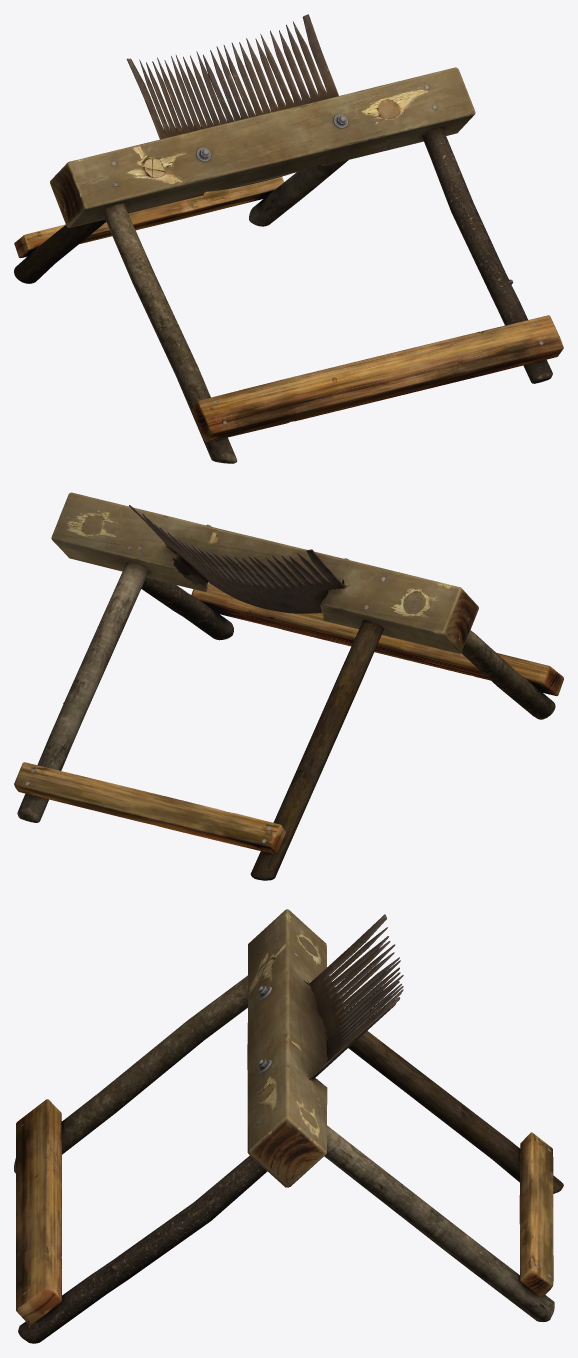
The model's file is thresher.glb.
3 renders of one model, top to bottom at view 1: azimuth 30°, elevation 25°; view 2: azimuth 150°, elevation 25°; view 3: azimuth 270°, elevation 25°, orthographic. The views are drawn at different scales.
Visible parts, largest first — view 1: ThreshingMachine_M_ThreshingMachine_0.013, ThreshingMachine_M_ThreshingMachine_0.012, ThreshingMachine_M_ThreshingMachine_0.010, ThreshingMachine_M_ThreshingMachine_0.018, ThreshingMachine_M_ThreshingMachine_0.003, ThreshingMachine_M_ThreshingMachine_0.011, ThreshingMachine_M_ThreshingMachine_0.008, ThreshingMachine_M_ThreshingMachine_0.019; view 2: ThreshingMachine_M_ThreshingMachine_0.013, ThreshingMachine_M_ThreshingMachine_0.011, ThreshingMachine_M_ThreshingMachine_0.010, ThreshingMachine_M_ThreshingMachine_0.012, ThreshingMachine_M_ThreshingMachine_0.019, ThreshingMachine_M_ThreshingMachine_0.008, ThreshingMachine_M_ThreshingMachine_0.018, ThreshingMachine_M_ThreshingMachine_0.003, ThreshingMachine_M_ThreshingMachine_0.014; view 3: ThreshingMachine_M_ThreshingMachine_0.013, ThreshingMachine_M_ThreshingMachine_0.012, ThreshingMachine_M_ThreshingMachine_0.008, ThreshingMachine_M_ThreshingMachine_0.003, ThreshingMachine_M_ThreshingMachine_0.010, ThreshingMachine_M_ThreshingMachine_0.018, ThreshingMachine_M_ThreshingMachine_0.019, ThreshingMachine_M_ThreshingMachine_0.011.
Part boxes in pixels (x1,y1,x2,y2): ThreshingMachine_M_ThreshingMachine_0.013: (50, 67, 475, 227); ThreshingMachine_M_ThreshingMachine_0.012: (192, 315, 563, 442); ThreshingMachine_M_ThreshingMachine_0.010: (126, 14, 338, 191); ThreshingMachine_M_ThreshingMachine_0.018: (102, 203, 236, 459); ThreshingMachine_M_ThreshingMachine_0.003: (422, 128, 552, 383); ThreshingMachine_M_ThreshingMachine_0.011: (14, 176, 283, 258); ThreshingMachine_M_ThreshingMachine_0.008: (249, 160, 348, 226); ThreshingMachine_M_ThreshingMachine_0.019: (14, 219, 105, 283); ThreshingMachine_M_ThreshingMachine_0.013: (51, 492, 478, 653); ThreshingMachine_M_ThreshingMachine_0.011: (14, 762, 286, 854); ThreshingMachine_M_ThreshingMachine_0.010: (129, 505, 344, 613); ThreshingMachine_M_ThreshingMachine_0.012: (191, 582, 563, 695); ThreshingMachine_M_ThreshingMachine_0.019: (250, 620, 383, 878); ThreshingMachine_M_ThreshingMachine_0.008: (18, 562, 148, 821); ThreshingMachine_M_ThreshingMachine_0.018: (461, 630, 555, 718); ThreshingMachine_M_ThreshingMachine_0.003: (141, 577, 233, 640); ThreshingMachine_M_ThreshingMachine_0.014: (173, 553, 208, 591); ThreshingMachine_M_ThreshingMachine_0.013: (247, 909, 327, 1187); ThreshingMachine_M_ThreshingMachine_0.012: (16, 1099, 61, 1325); ThreshingMachine_M_ThreshingMachine_0.008: (324, 1125, 554, 1321); ThreshingMachine_M_ThreshingMachine_0.003: (19, 1155, 267, 1343); ThreshingMachine_M_ThreshingMachine_0.010: (309, 914, 403, 1079); ThreshingMachine_M_ThreshingMachine_0.018: (61, 975, 247, 1154); ThreshingMachine_M_ThreshingMachine_0.019: (348, 1030, 563, 1193); ThreshingMachine_M_ThreshingMachine_0.011: (519, 1132, 553, 1297).
Size of the model in its own units: 0.7447 by 0.4907 by 0.8276.
1 material, 1 textured.
